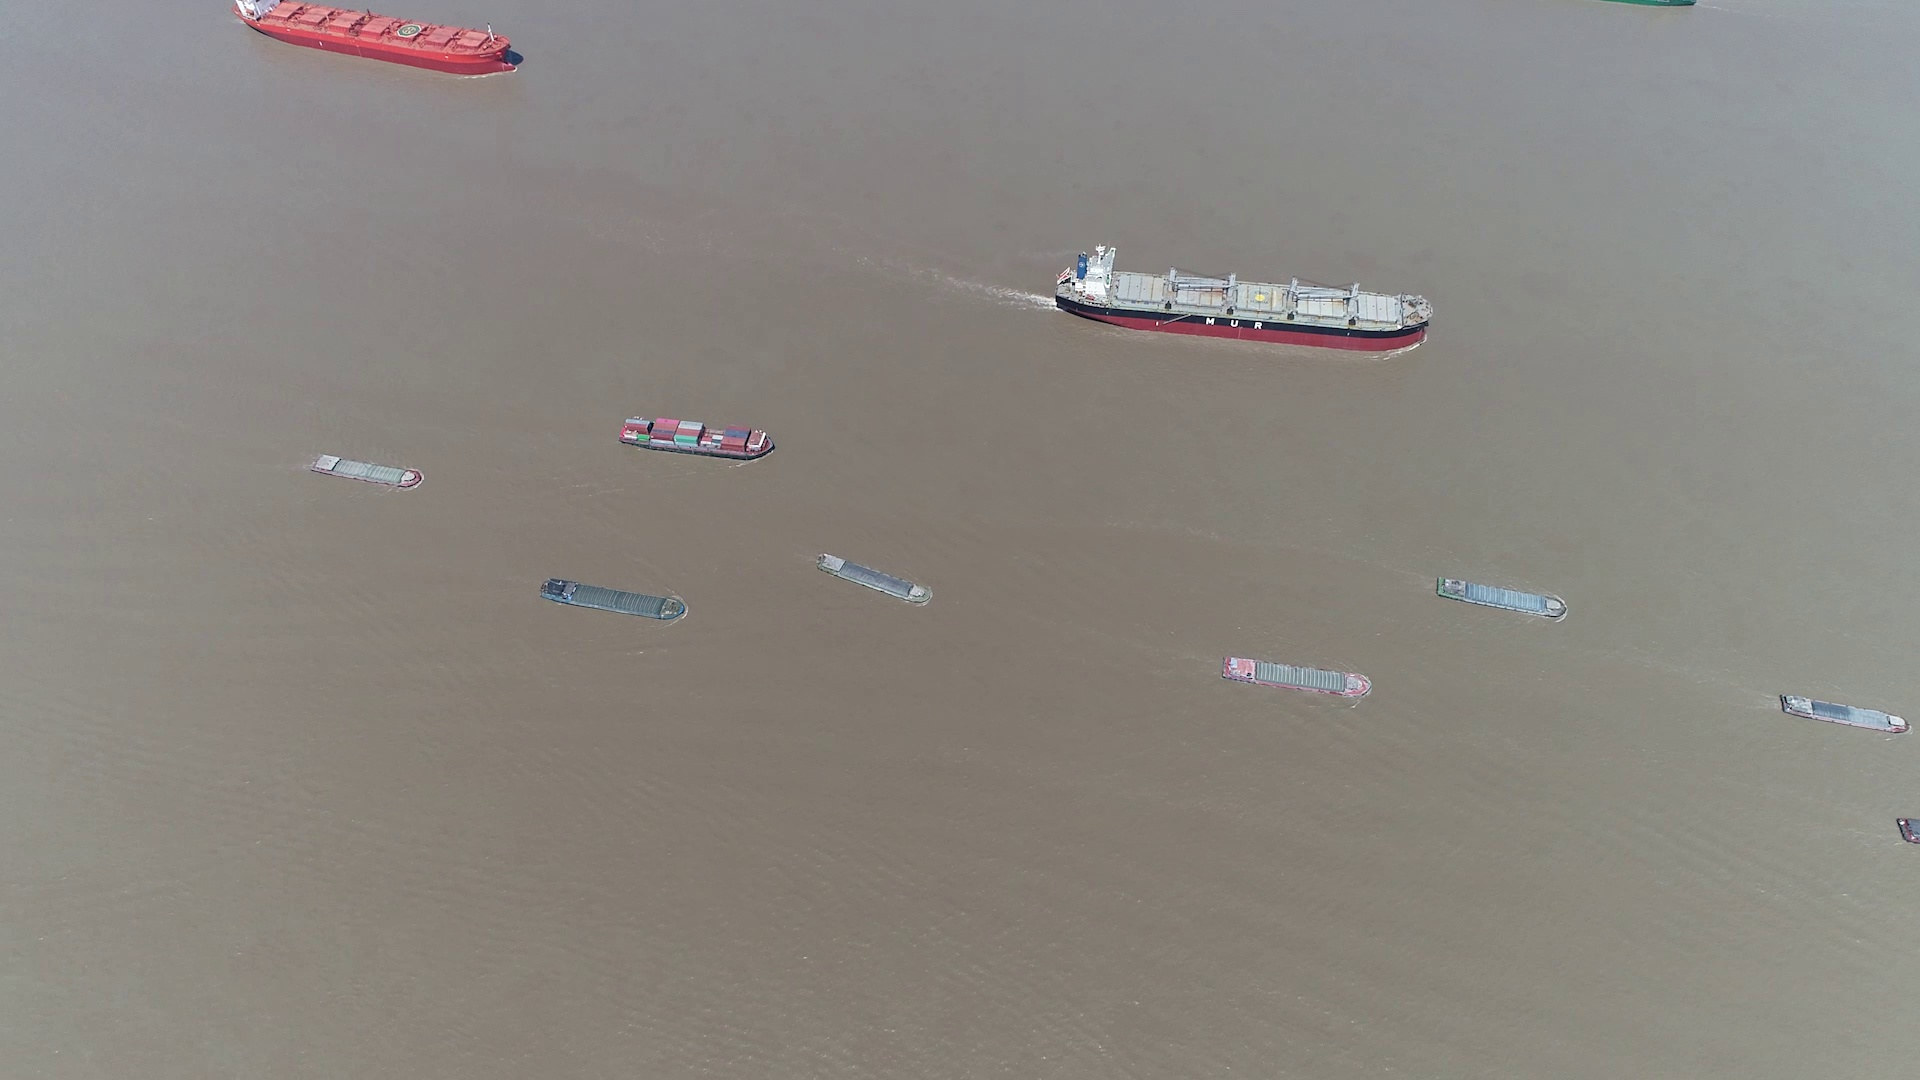ship: (1055, 247, 1435, 349), (233, 0, 522, 73), (618, 418, 775, 460), (542, 579, 688, 622), (1221, 655, 1371, 698), (1435, 576, 1568, 621), (819, 556, 935, 607), (1778, 692, 1909, 735), (310, 452, 421, 488), (1898, 818, 1920, 847), (1613, 0, 1696, 7)
